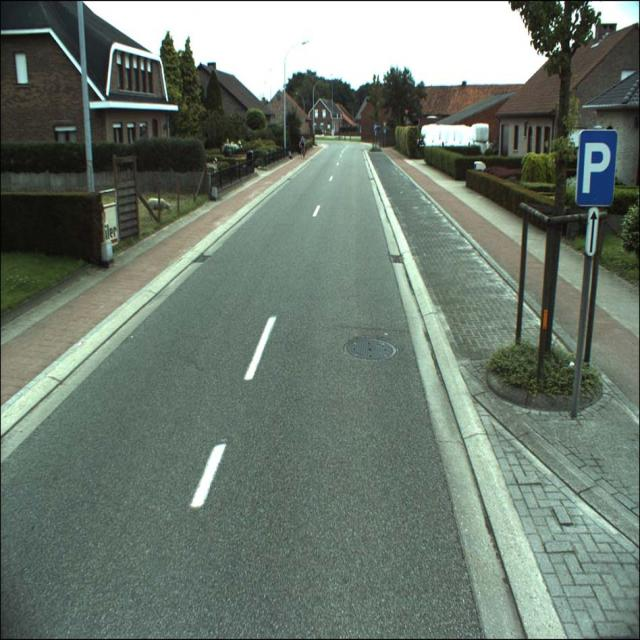park: (576, 130, 617, 207)
